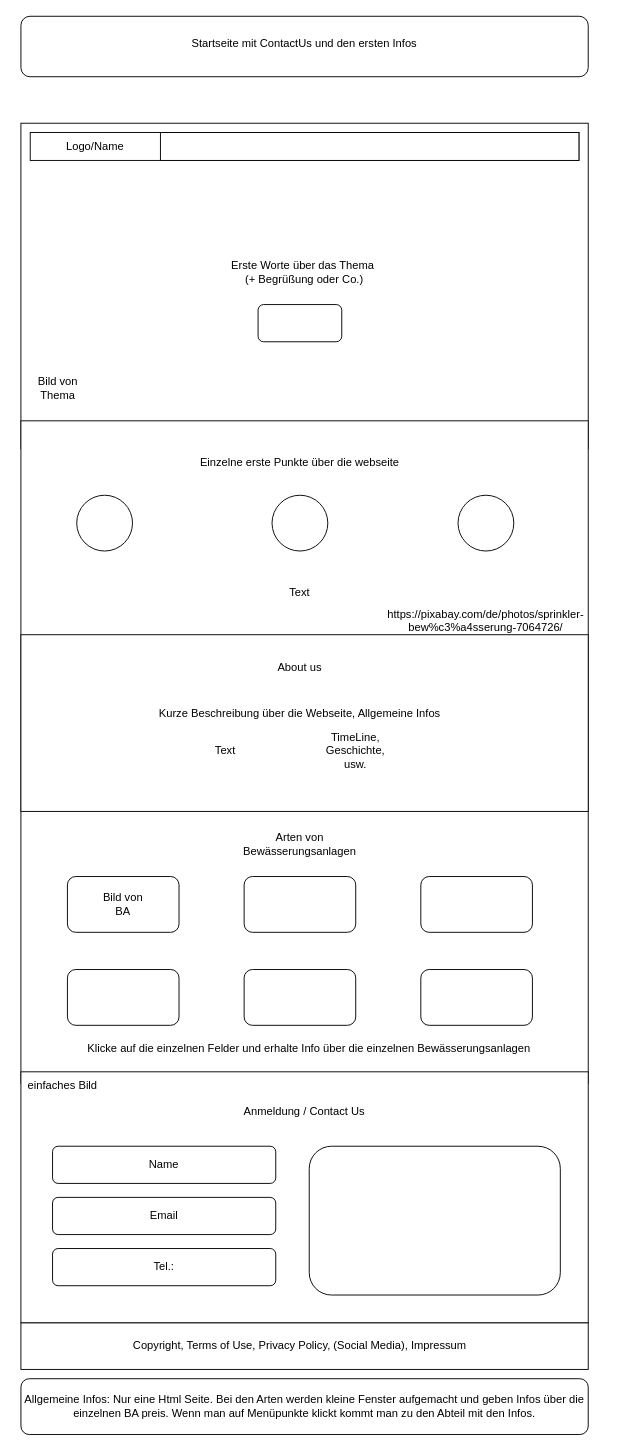
Some shapes in this 636 by 1451 pixel diagram are drawn without their labels. The shapes that lost their labels are listed below. From the top down, each one's box as (x1, y1, x2, y2) in pixels, then its label:
(159, 132, 579, 160): Menüpunkte/Menüleiste
(257, 304, 342, 342): Learn More
(308, 1145, 560, 1295): Beschreibung/Text
